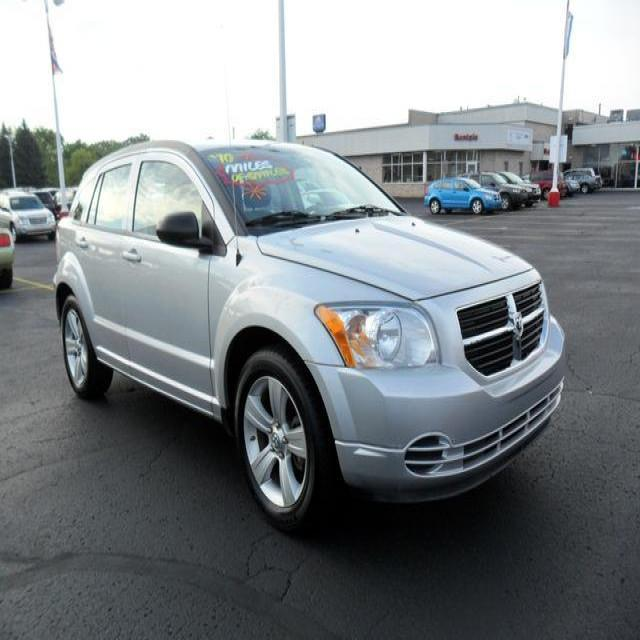car: (46, 137, 573, 523)
